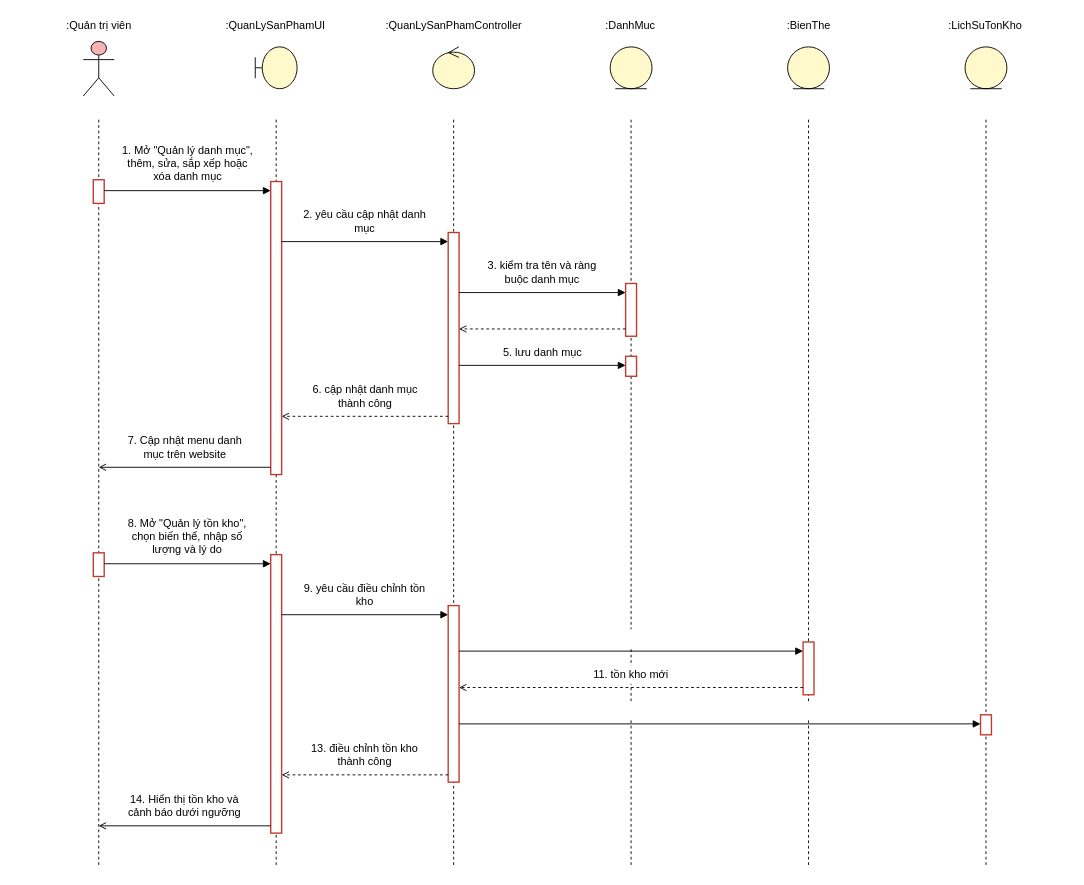
The diagram is 1084 pixels wide and 885 high, and some of its shapes have lost their labels. The shapes that lost their labels are listed below. From the top down, each one's box as (x1, y1, x2, y2) in pixels, then its label:
(511, 307, 571, 325): 4. hợp lệ
(554, 629, 707, 647): 10. cập nhật số lượng tồn
(629, 702, 811, 720): 12. ghi lịch sử thay đổi tồn kho
